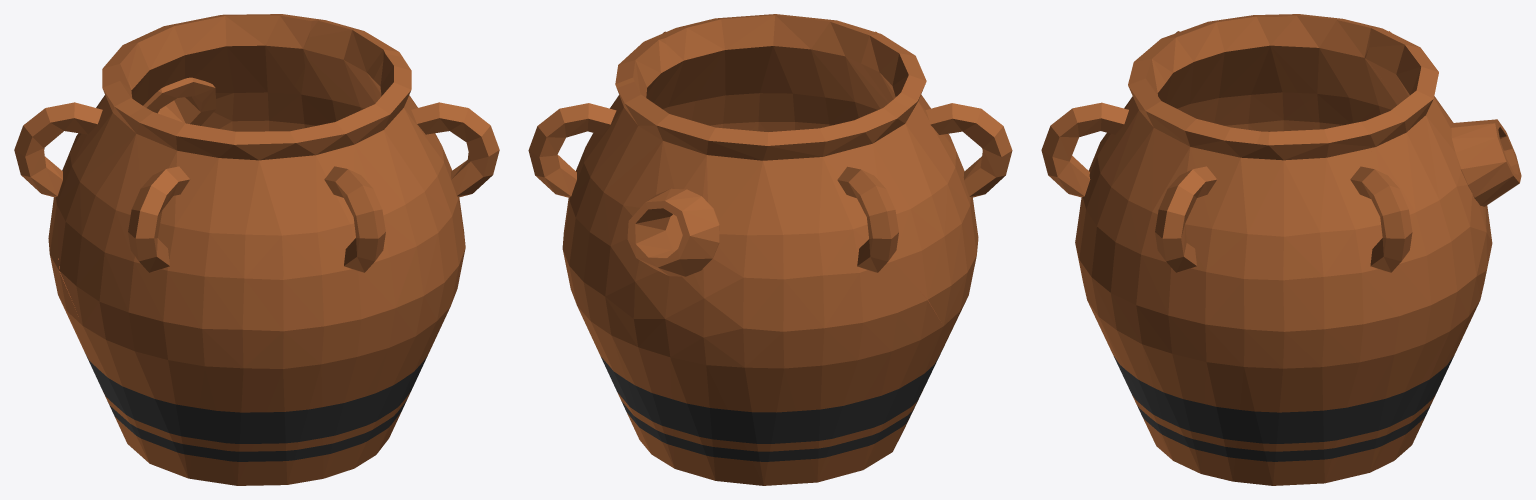
File: Pottery 9_3b.fbx
The picture shows the model from 3 angles, left to right: view 1: azimuth 30°, elevation 25°; view 2: azimuth 150°, elevation 25°; view 3: azimuth 270°, elevation 25°; orthographic projection.
Parts seen in each view (by area): view 1: Pottery 9_3b.003, Pottery 9_3b.005, Pottery 9_3b, Pottery 9_3b.007, Pottery 9_3b.006, Pottery 9_3b.004, Pottery 9_3b.002, Pottery 9_3b.008; view 2: Pottery 9_3b.007, Pottery 9_3b.002, Pottery 9_3b.006, Pottery 9_3b.005, Pottery 9_3b.003, Pottery 9_3b.004, Pottery 9_3b; view 3: Pottery 9_3b.004, Pottery 9_3b.005, Pottery 9_3b.008, Pottery 9_3b.007, Pottery 9_3b.003, Pottery 9_3b, Pottery 9_3b.006, Pottery 9_3b.002.
Part boxes in pixels (x1,y1,x2,y2): Pottery 9_3b.003: (58,107,295,404); Pottery 9_3b.005: (275,54,499,397); Pottery 9_3b: (109,321,398,485); Pottery 9_3b.007: (103,14,316,131); Pottery 9_3b.006: (14,64,143,269); Pottery 9_3b.004: (260,19,402,131); Pottery 9_3b.002: (53,251,156,407); Pottery 9_3b.008: (378,198,465,417); Pottery 9_3b.007: (589,81,825,361); Pottery 9_3b.002: (593,289,945,460); Pottery 9_3b.006: (756,100,926,369); Pottery 9_3b.005: (652,14,889,131); Pottery 9_3b.003: (861,34,1012,349); Pottery 9_3b.004: (528,38,673,340); Pottery 9_3b: (622,354,940,485); Pottery 9_3b.004: (1206,121,1477,424); Pottery 9_3b.005: (1041,59,1261,364); Pottery 9_3b.008: (1117,272,1297,459); Pottery 9_3b.007: (1365,28,1521,290); Pottery 9_3b.003: (1134,14,1315,131); Pottery 9_3b: (1115,359,1421,485); Pottery 9_3b.006: (1270,14,1401,129); Pottery 9_3b.002: (1324,289,1482,436).
Size of the model in its own units: 88.77 by 83.24 by 102.
